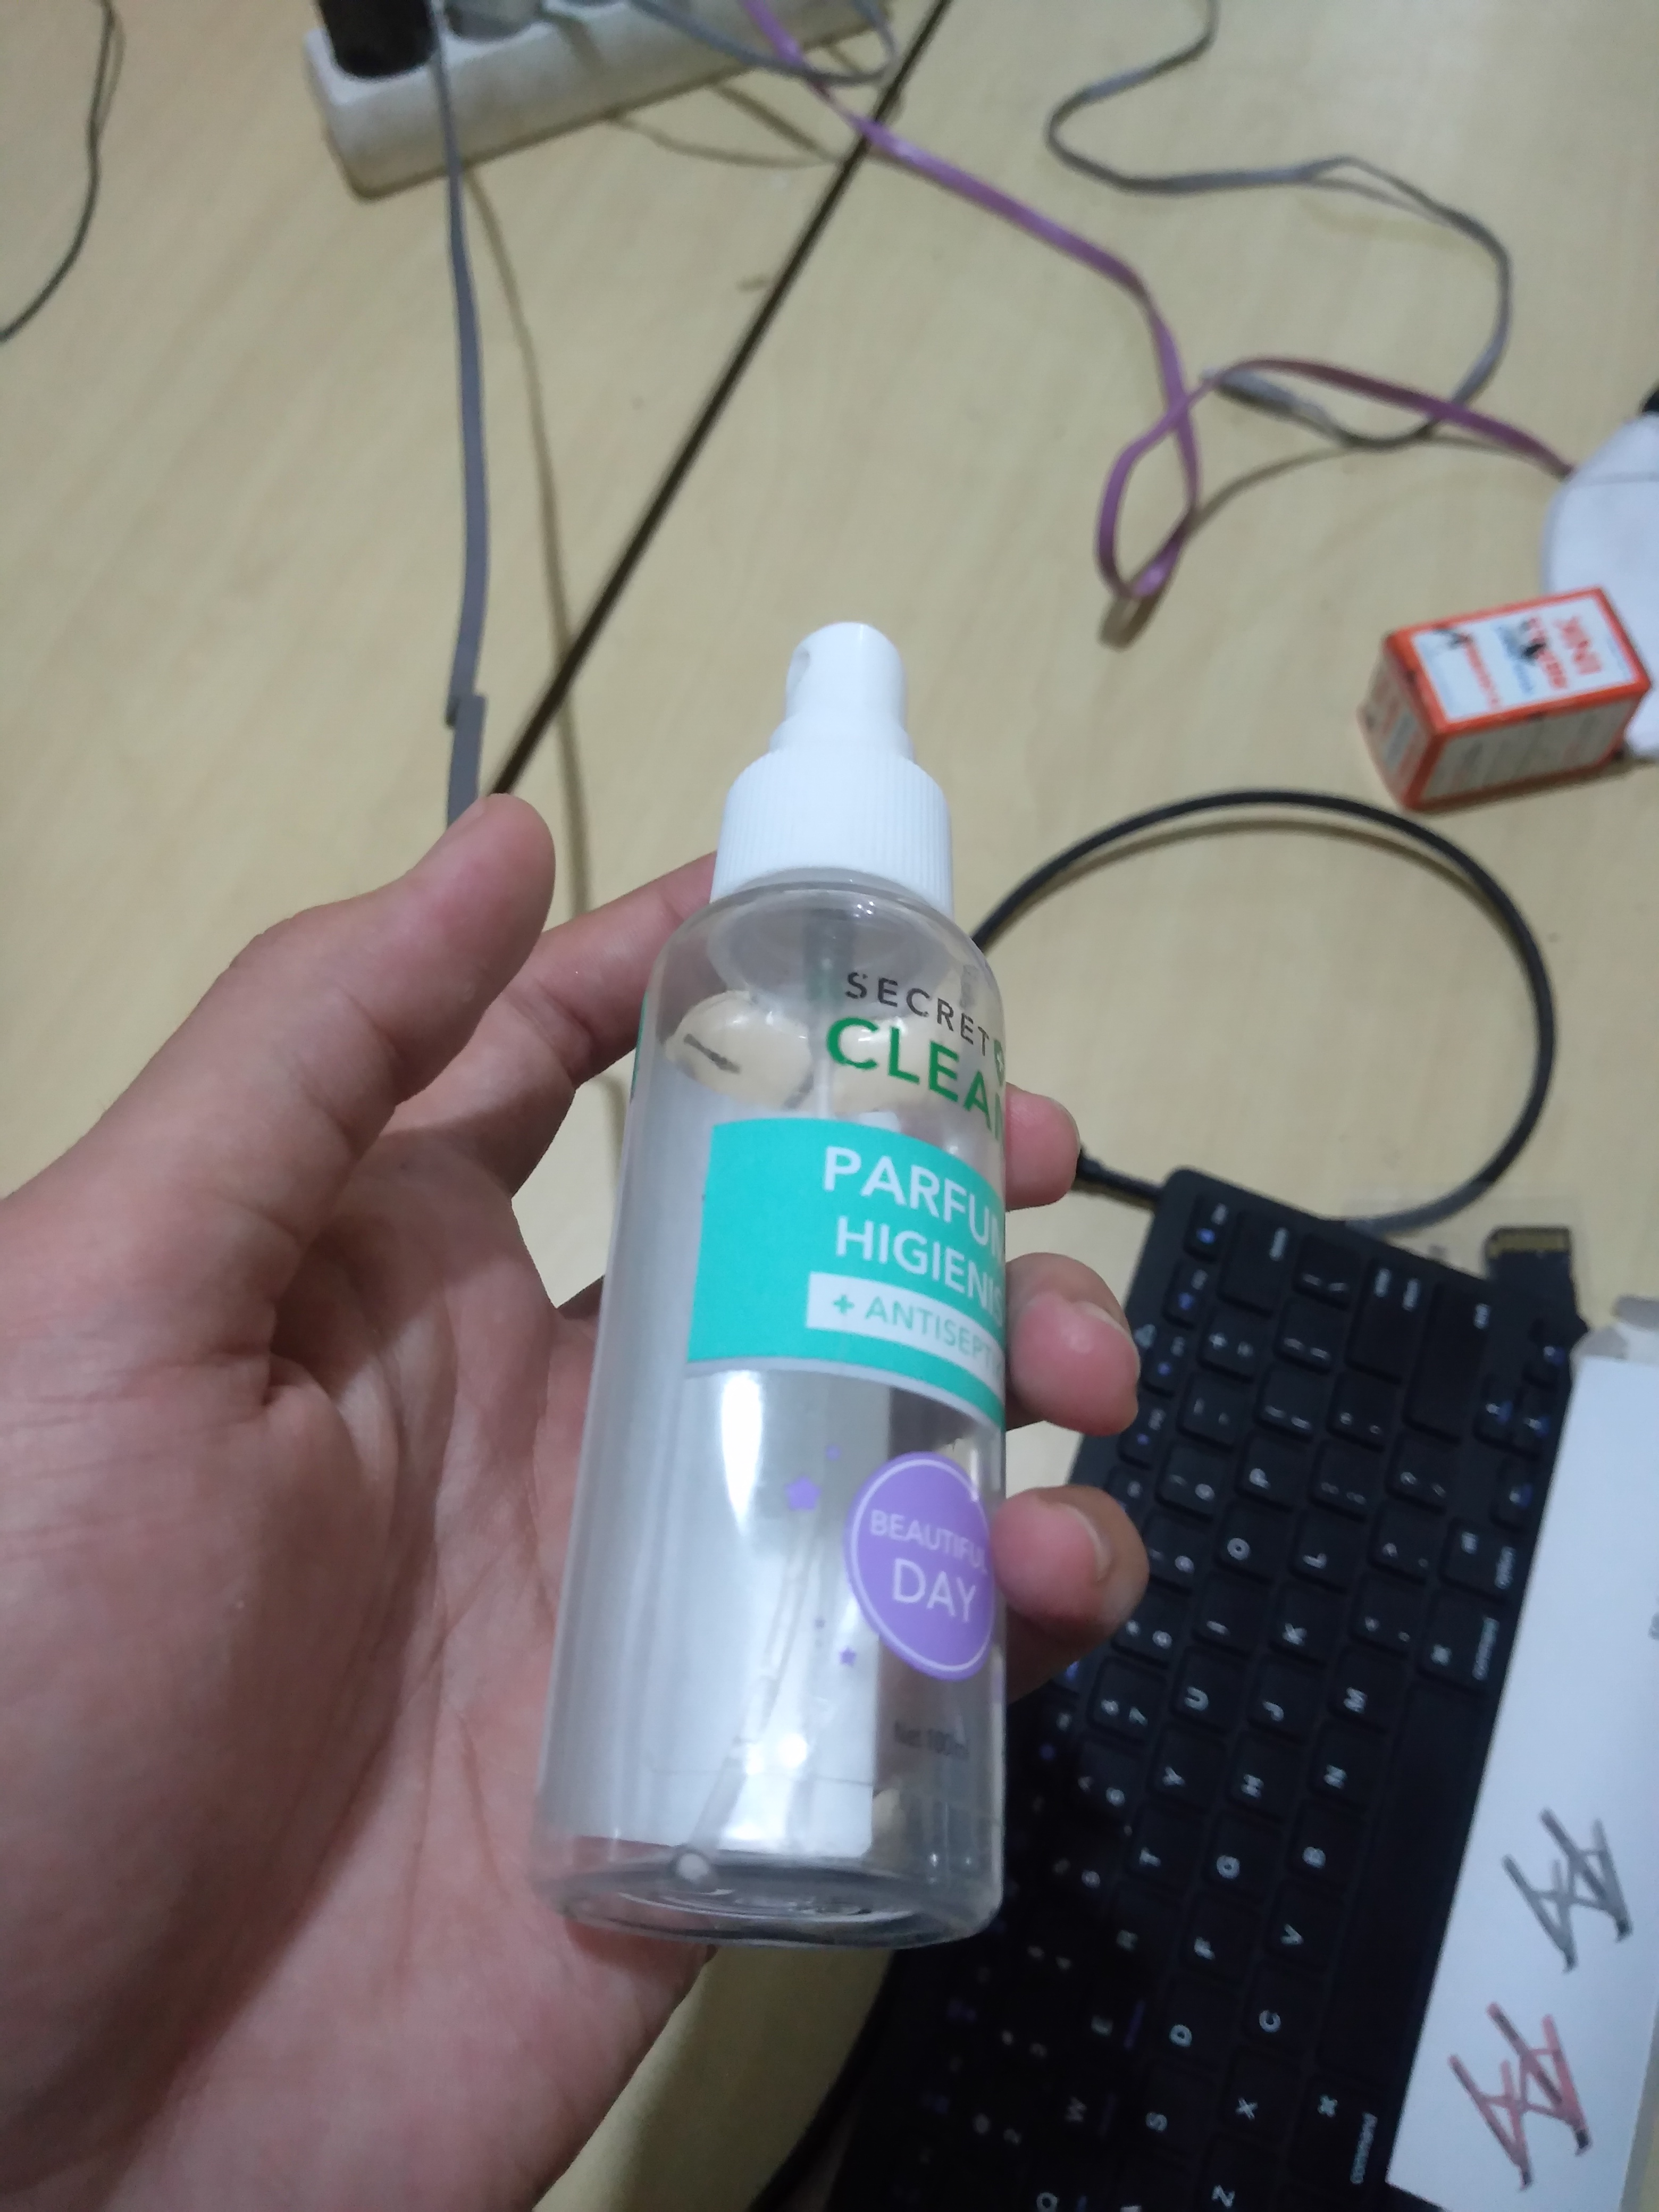hand sanitizer: (514, 554, 1084, 1991)
